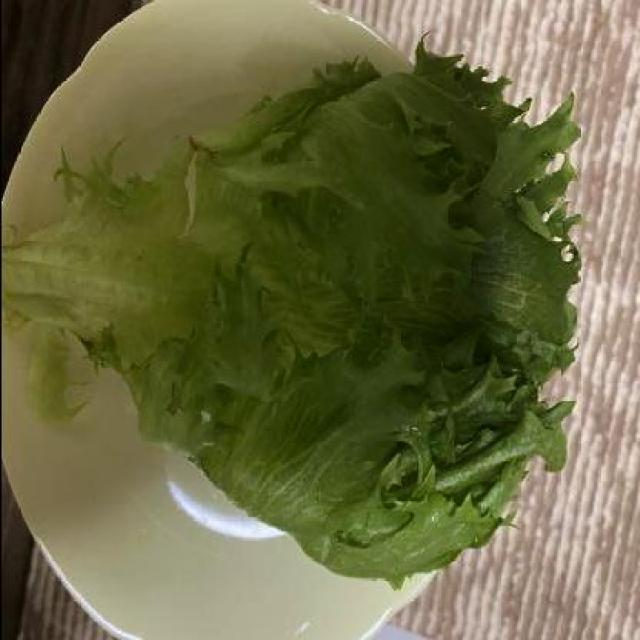Lettuce: (7, 46, 583, 586)
